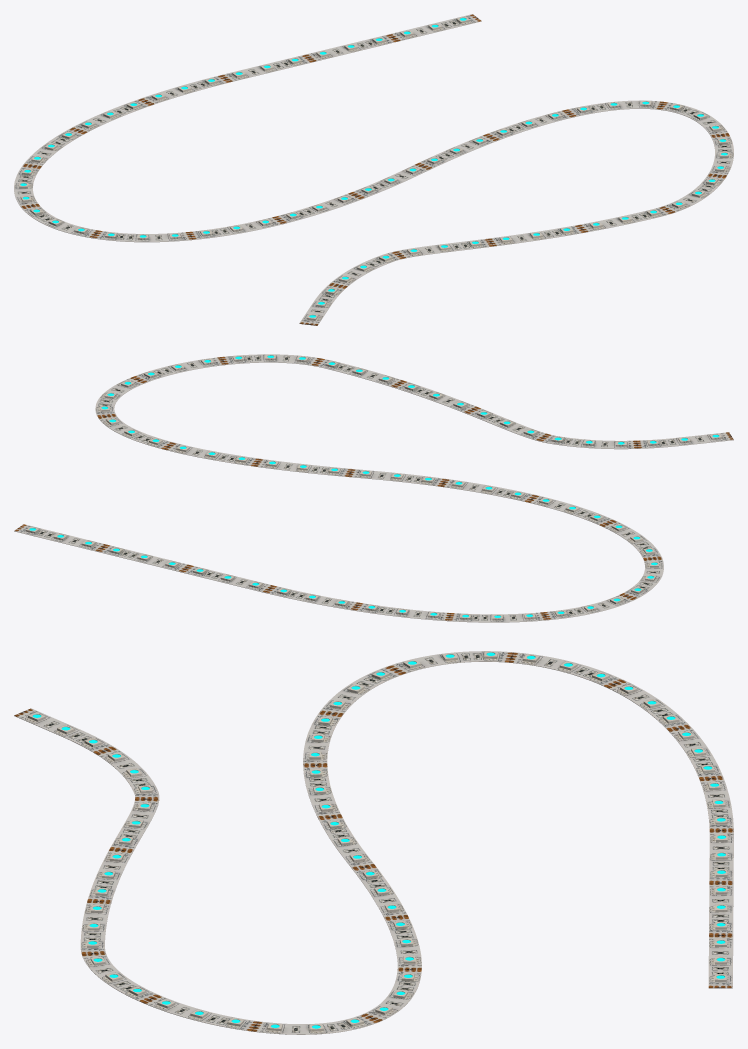
The picture shows the model from 3 angles, top to bottom: view 1: azimuth 30°, elevation 25°; view 2: azimuth 150°, elevation 25°; view 3: azimuth 270°, elevation 25°; orthographic projection. The views are drawn at different scales.
Visible parts, largest first — view 1: LED Streifen_3; view 2: LED Streifen_3; view 3: LED Streifen_3.
Part boxes in pixels (x1,y1,x2,y2): LED Streifen_3: (14, 14, 733, 325); LED Streifen_3: (14, 354, 733, 622); LED Streifen_3: (14, 651, 733, 1034).
Size of the model in its own units: 8.12 by 0.0261 by 6.44.
Materials: 2 (1 with a texture image).
